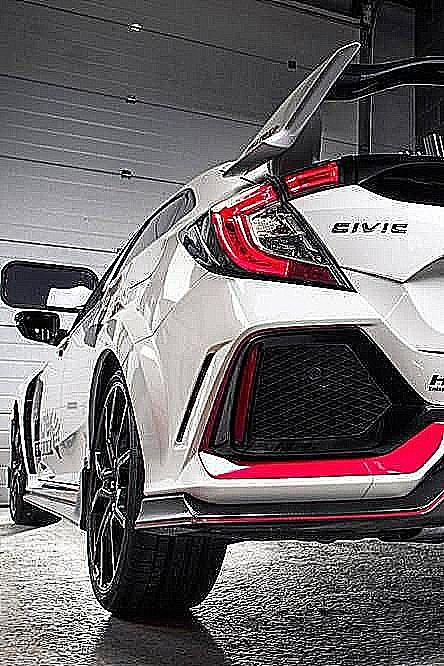Car boot: (284, 146, 444, 289)
Fender - -R-L-: (123, 111, 228, 371)
Passenger-s door - -F-L-: (54, 206, 128, 543)
Passenger-s door - -R-L-: (88, 149, 200, 526)
Rear bumper: (114, 283, 442, 554)
Rear light - -L-: (177, 151, 364, 298)
Side bumper - -L-: (16, 474, 88, 556)
Side mirror - -L-: (12, 302, 74, 356)
